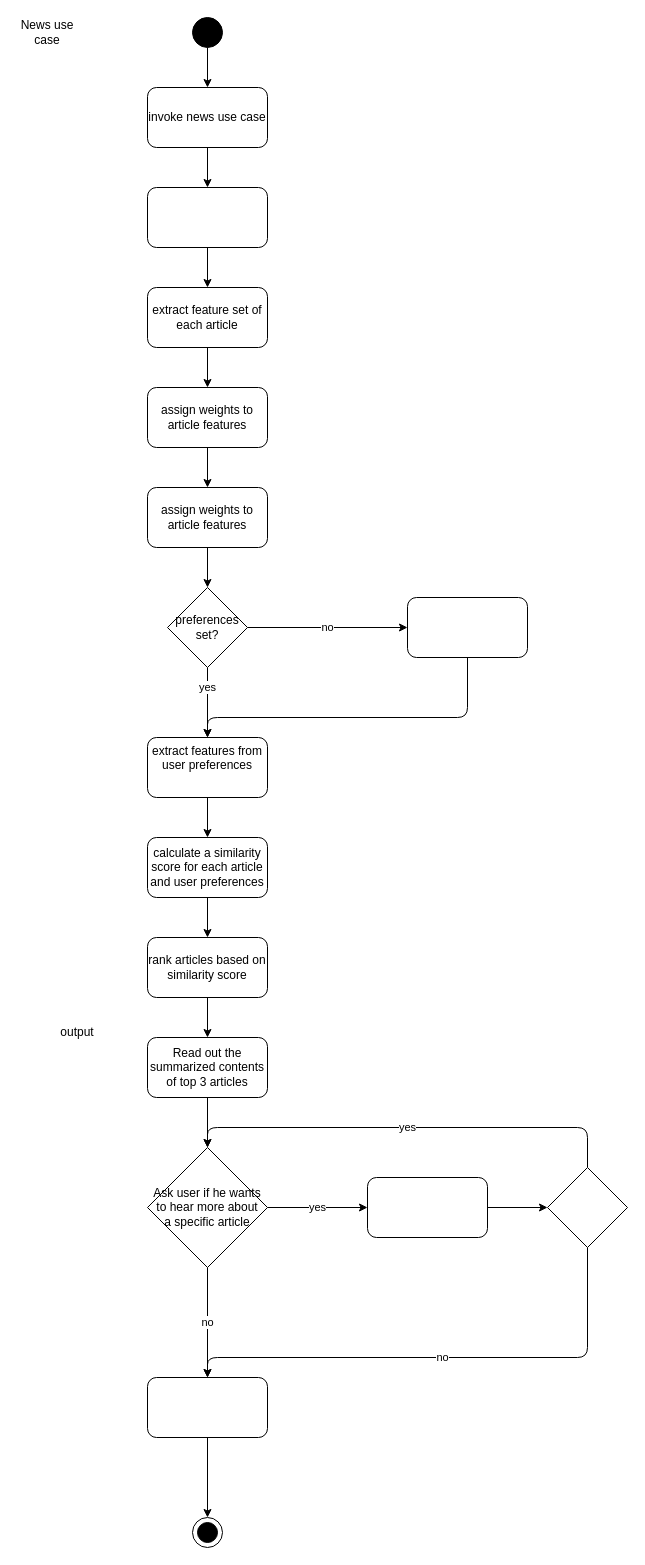
Image size: 645x1565. Some labels were removed from this diagram. Here are the shapes that lost their labels. From the top down, the centre of each, then its label:
[207,217]: poll news articles
[467,627]: ask user to set preferences
[427,1207]: Read out full content
[587,1207]: articles left?
[207,1407]: provide list of links to the articles
